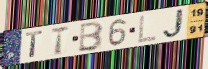6: (108, 18, 128, 47)
B: (77, 20, 105, 53)
J: (161, 8, 187, 41)
L: (136, 14, 158, 45)
T: (50, 24, 71, 57), (25, 30, 45, 60)
